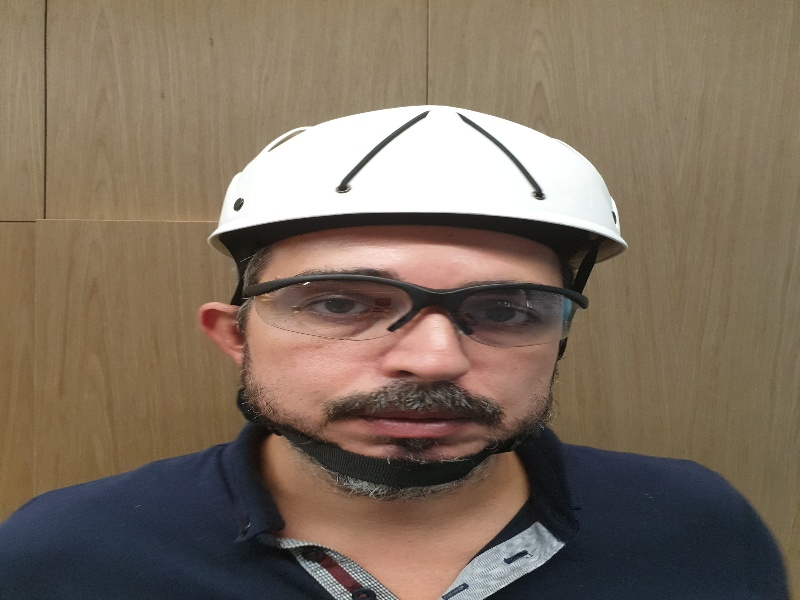Baret: (214, 103, 626, 241)
Gozluk: (233, 273, 591, 348)
